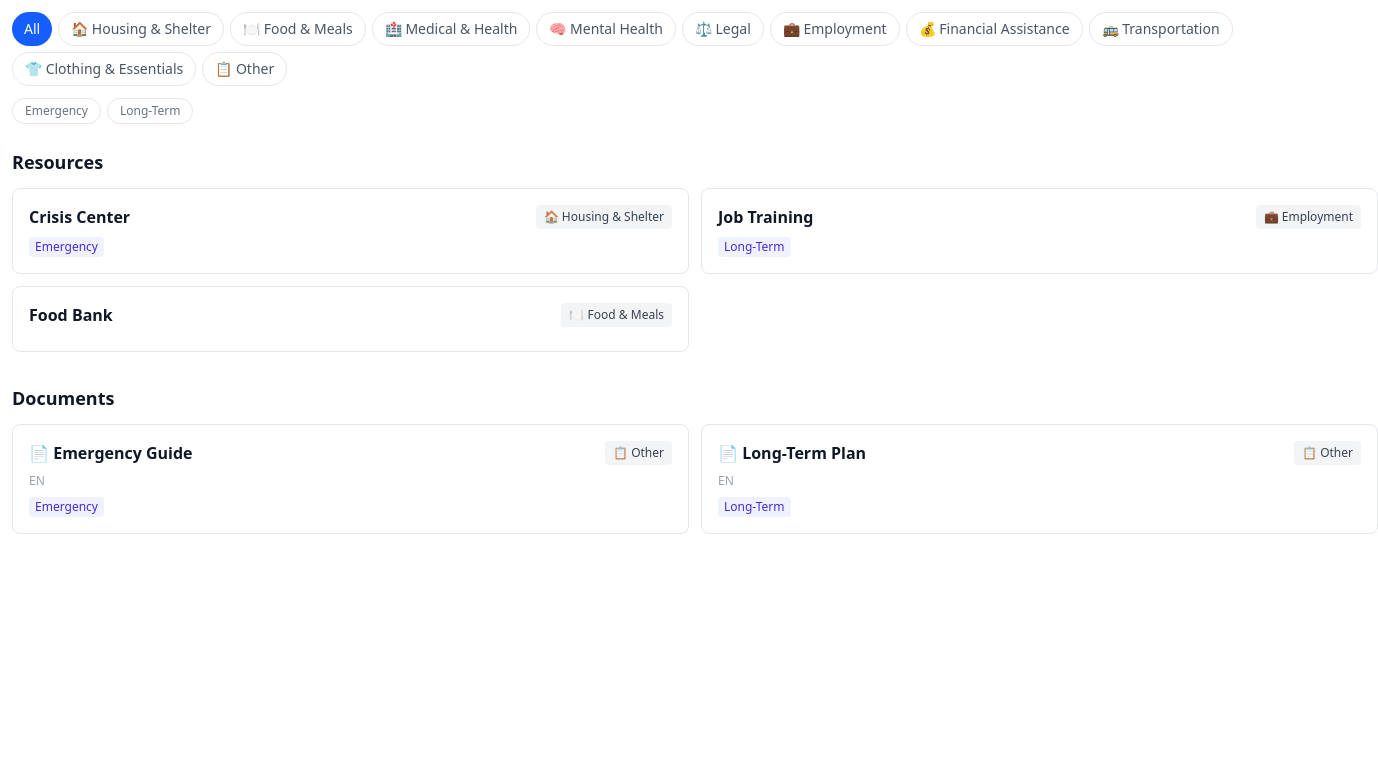
PublicHome — tag filter › selecting a tag filters resources to those with matching tagId
The image size is (1378, 780).
Click the button "Emergency" at (56, 111), box [12, 98, 101, 124]
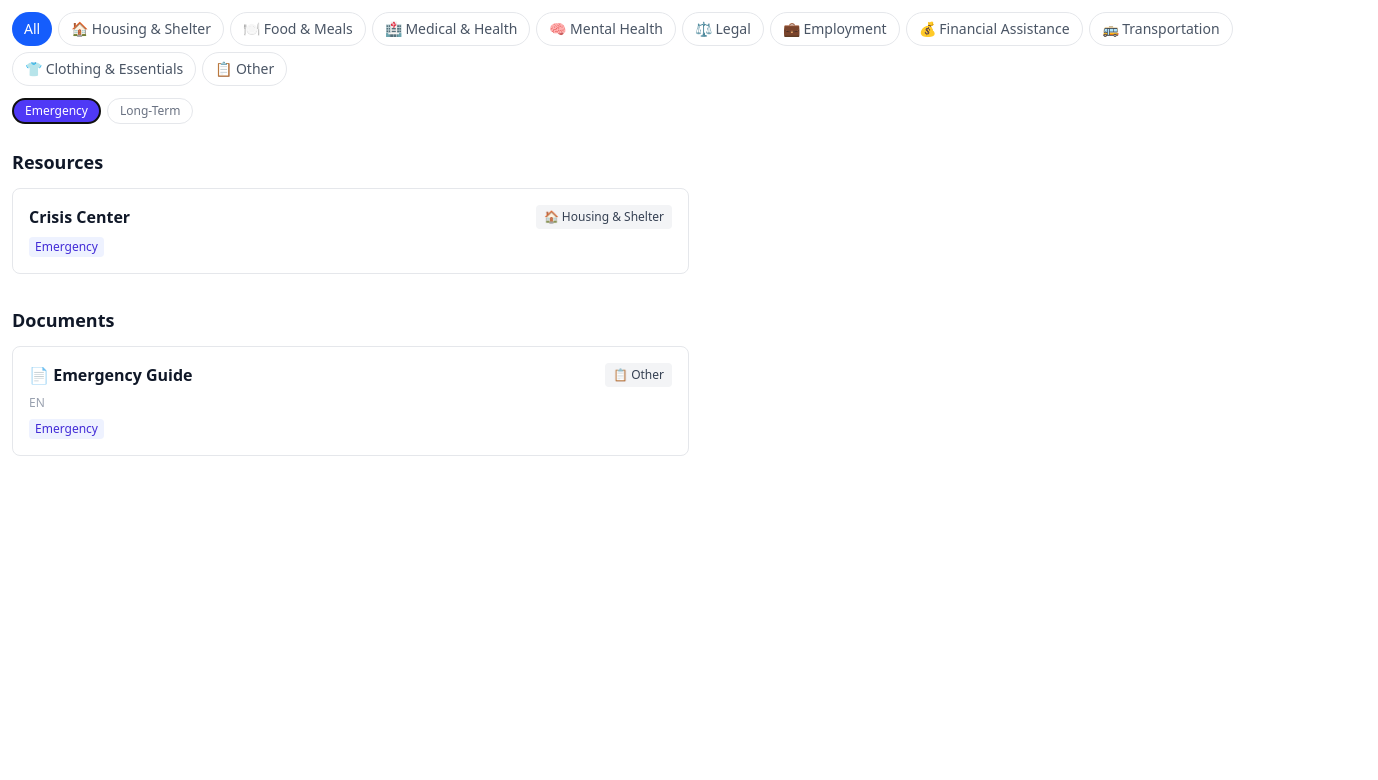
Check: the heading "Crisis Center" is shown, box [29, 205, 130, 229]
Check: the link "Job Training" is gone
Check: the link "Food Bank" is gone
